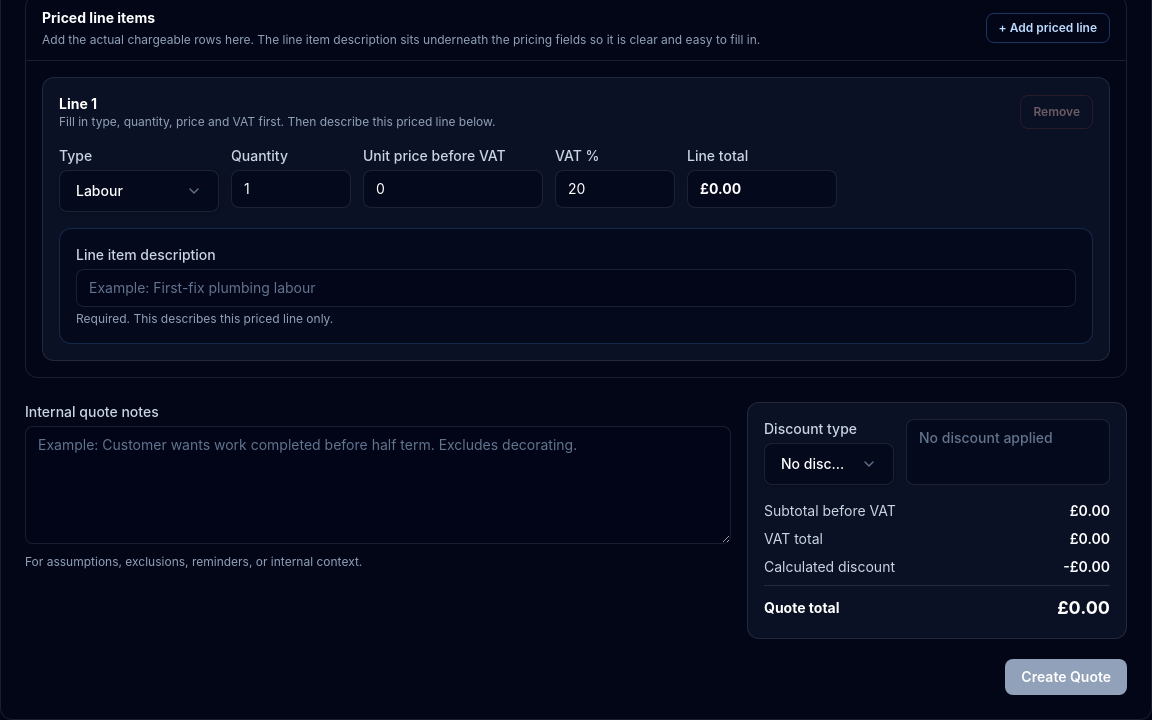
Test case: NewQuoteForm › renders discount type as a dark custom select
(page scrolled)
Click the dropdown named "discount type".
click(829, 464)  # box [764, 443, 894, 485]
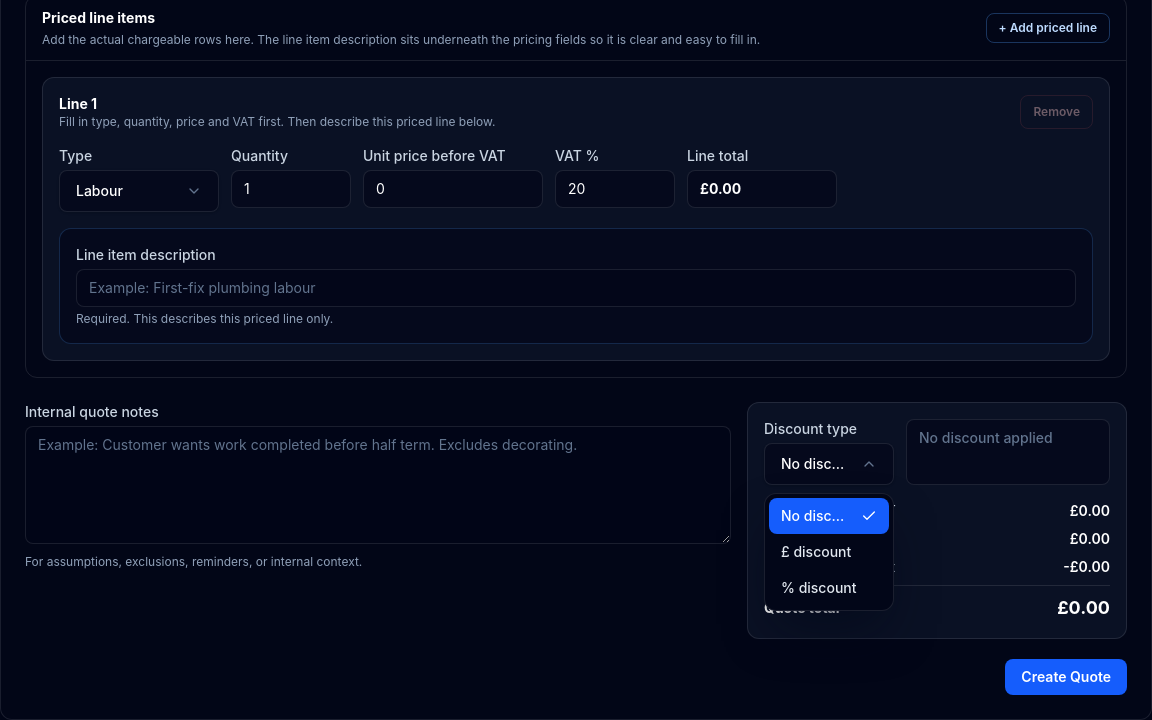
expect the text "£ discount" is shown: met, box [781, 542, 851, 562]
